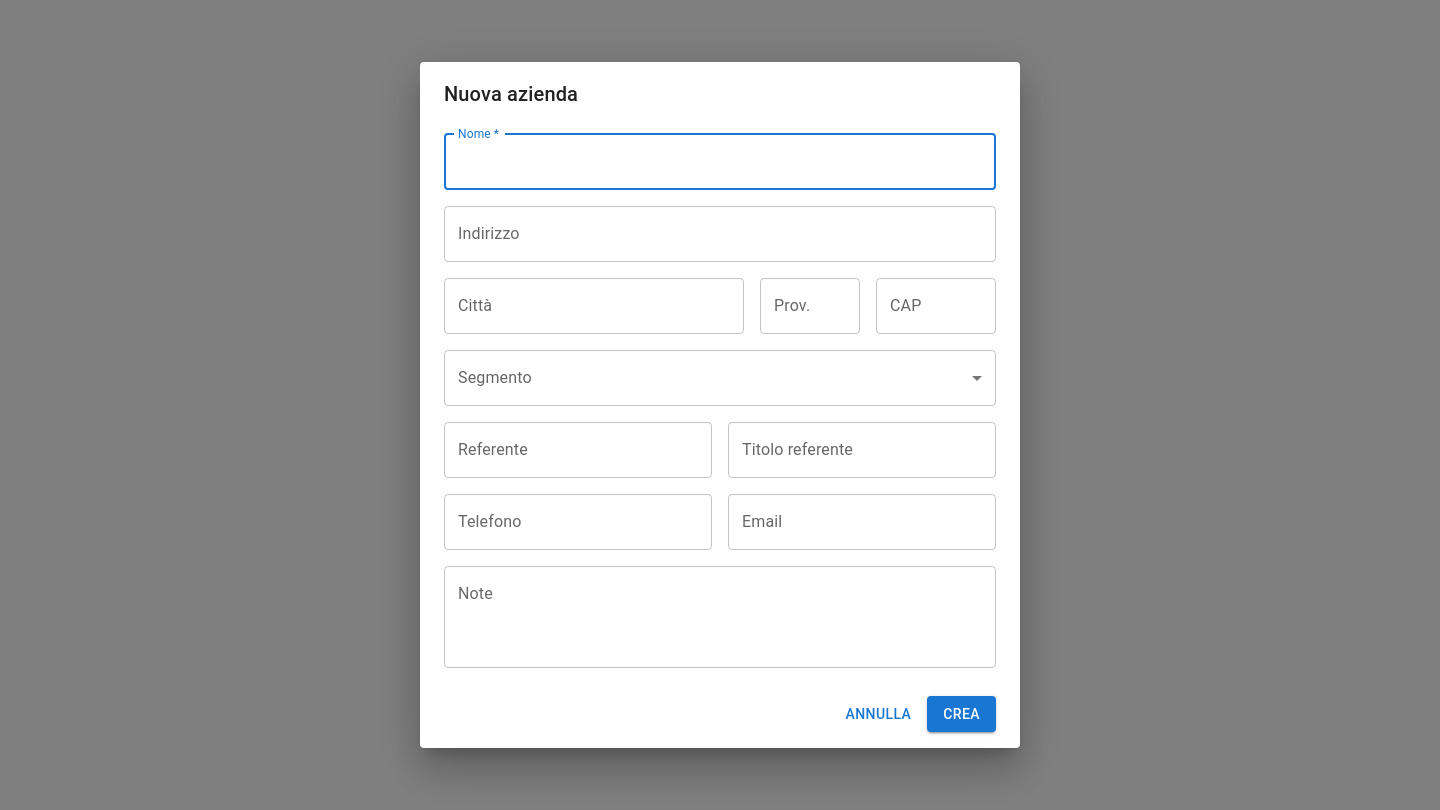
Test case: CompanyForm › shows validation error for invalid email
In the field labelled "Nome *": (720, 162) [444,134,996,190], type "Nuova Azienda"
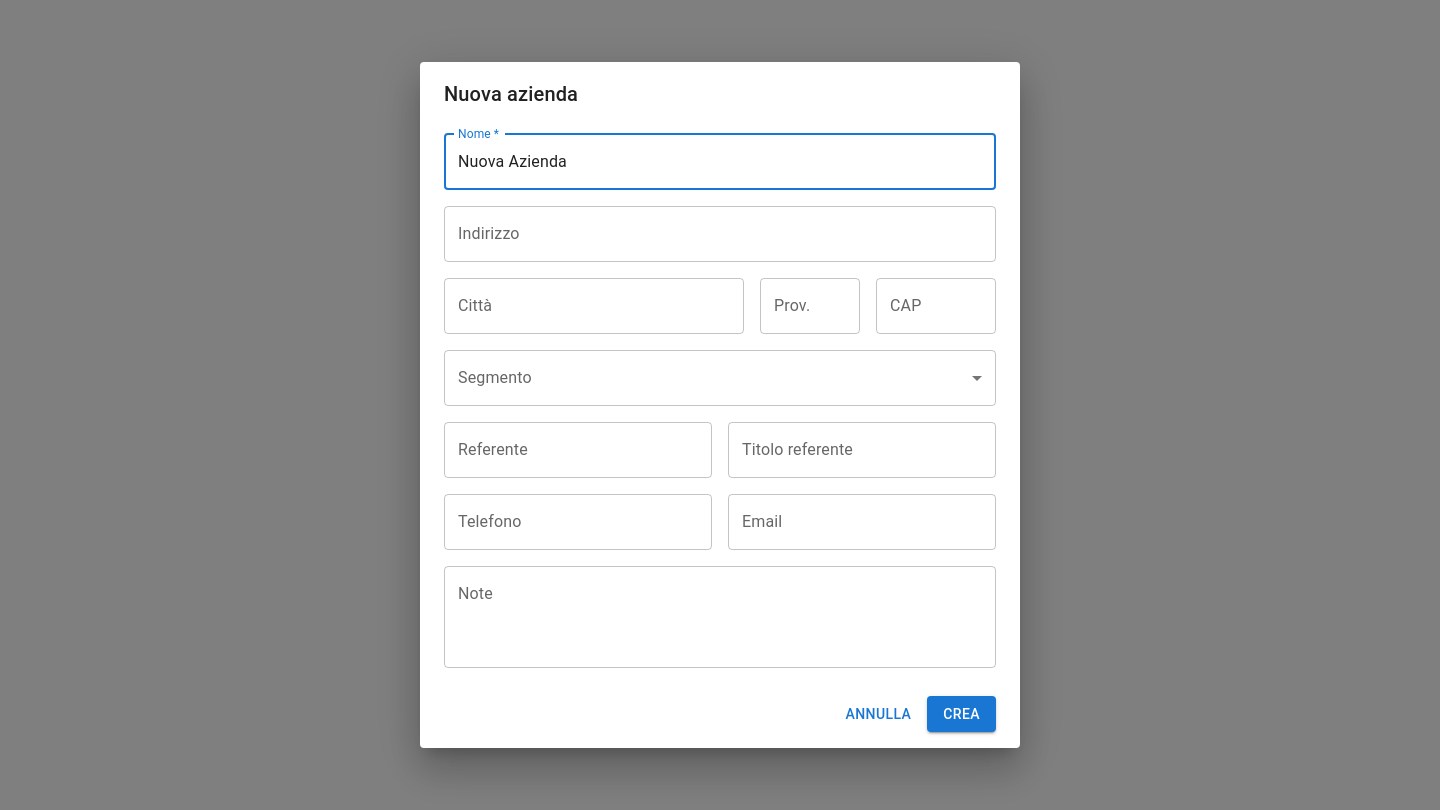
In the field labelled "Email": (862, 522) [728,494,996,550], type "not-an-email"
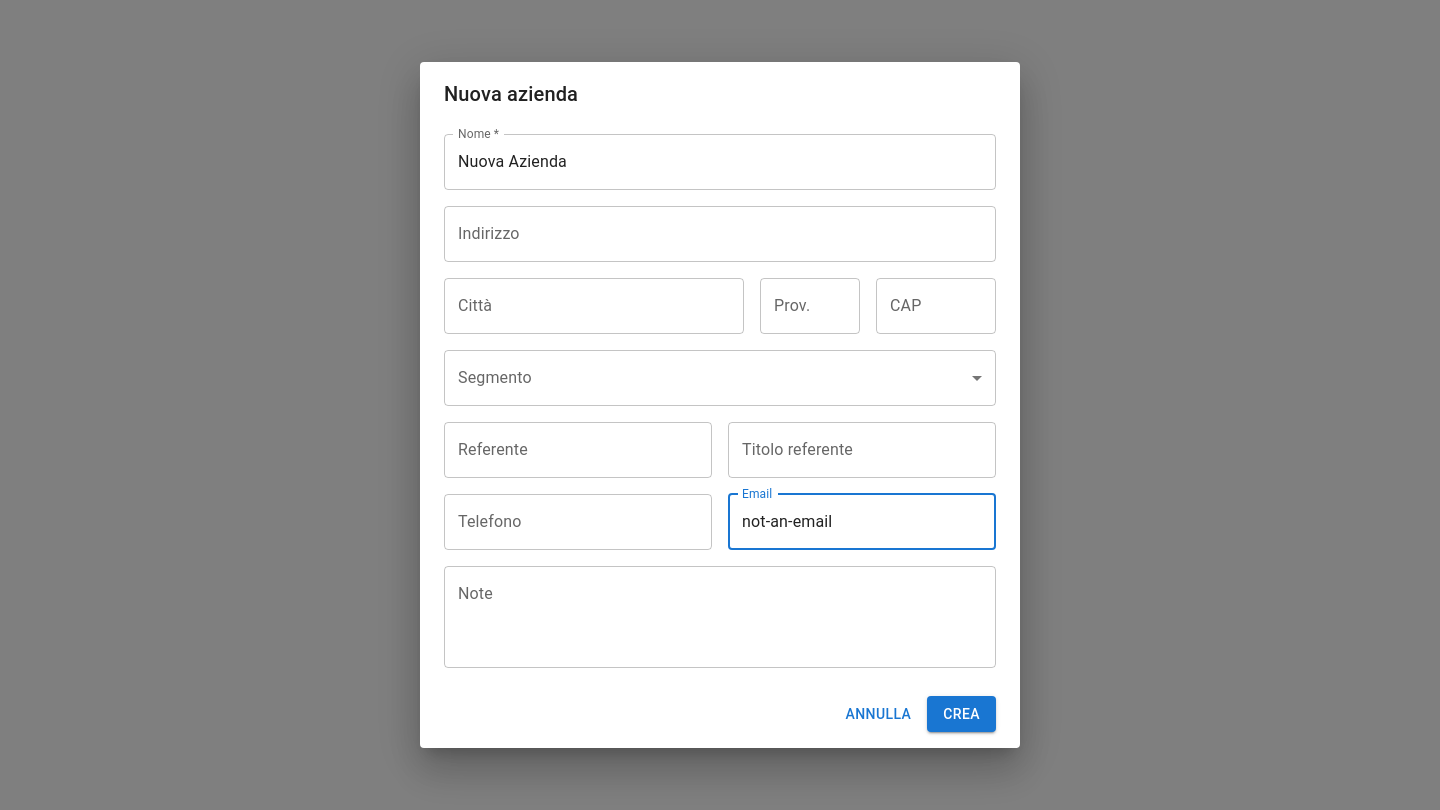
Click the button "Crea": click(962, 714) [927,696,996,732]
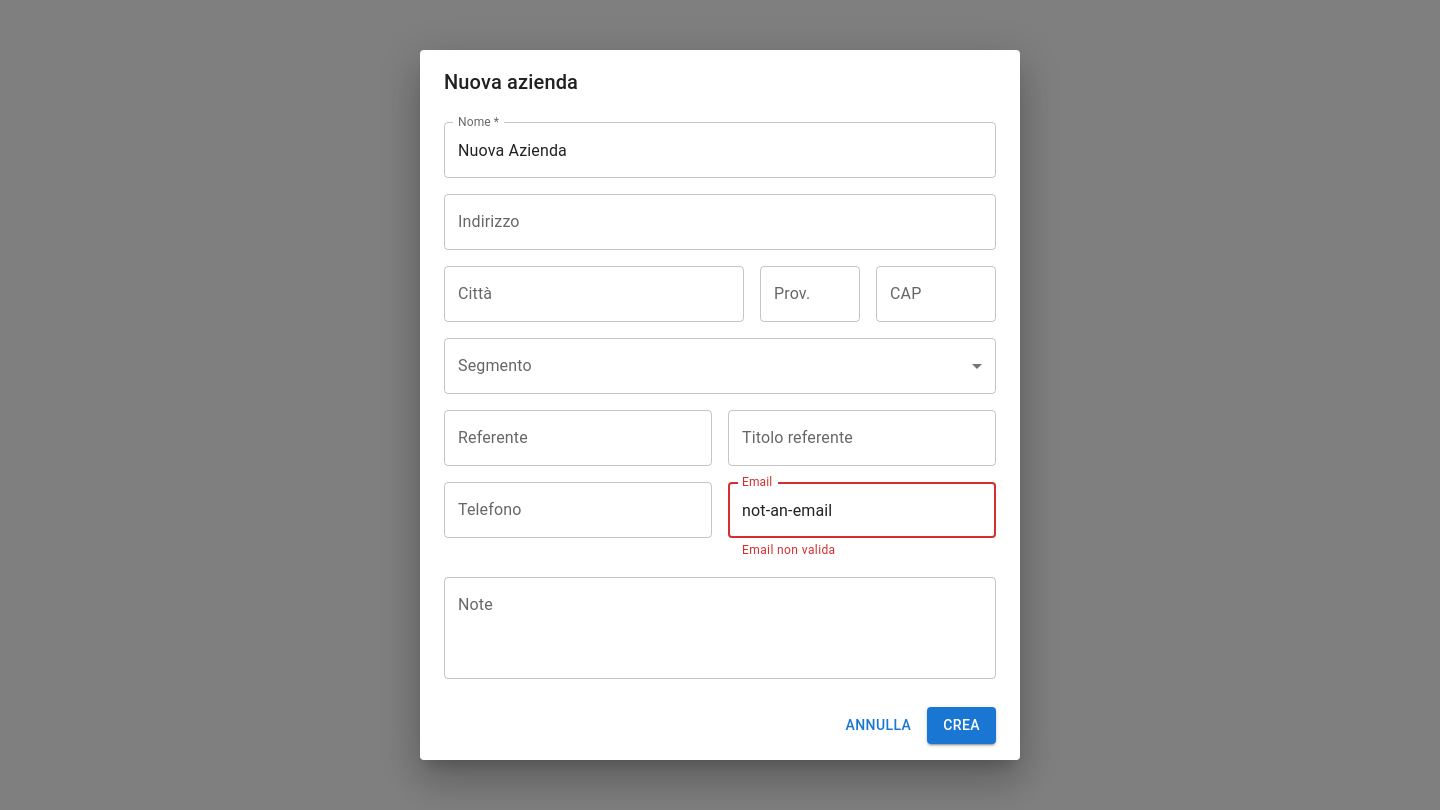
Check: the text "Email non valida" is shown, box [742,543,836,557]
